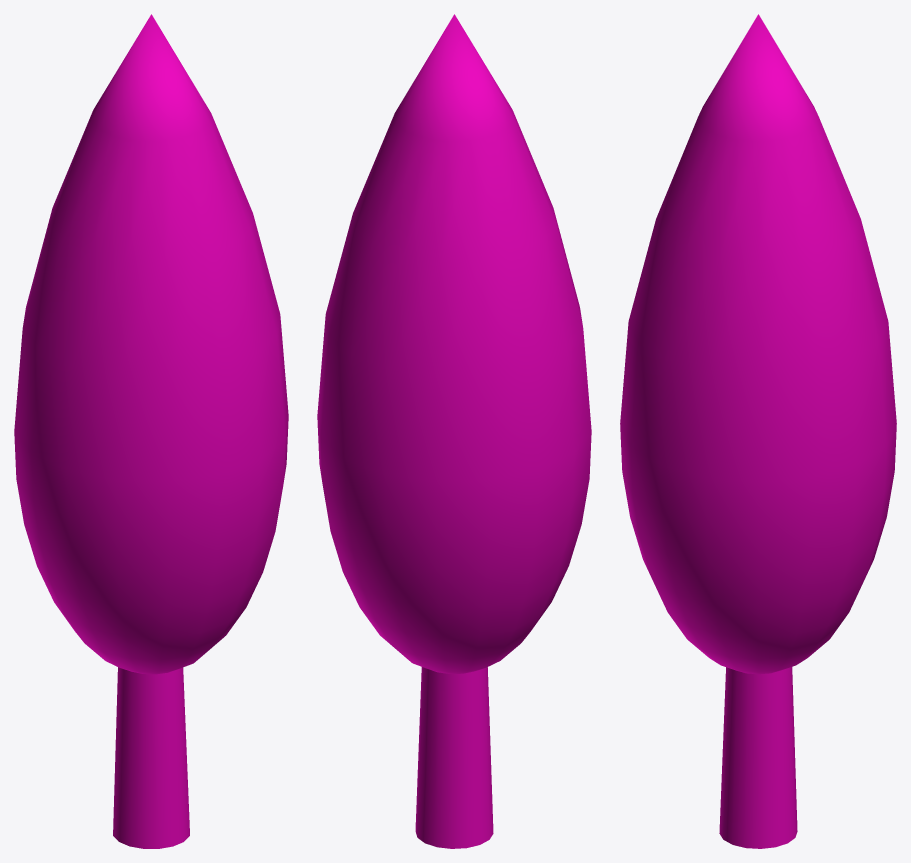
Rendered from pino.fbx.
3 views of the same model, side by side, from view 1: azimuth 30°, elevation 25°; view 2: azimuth 150°, elevation 25°; view 3: azimuth 270°, elevation 25° (orthographic).
Parts seen in each view (by area): view 1: sm_arbol_pino.001, sm_arbol_pino; view 2: sm_arbol_pino.001, sm_arbol_pino; view 3: sm_arbol_pino.001, sm_arbol_pino.
Part boxes in pixels (x1,y1,x2,y2): sm_arbol_pino.001: (14, 14, 288, 674); sm_arbol_pino: (113, 667, 189, 848); sm_arbol_pino.001: (317, 14, 591, 673); sm_arbol_pino: (415, 667, 493, 848); sm_arbol_pino.001: (620, 14, 896, 674); sm_arbol_pino: (719, 667, 797, 848).
Size of the model in its own units: 230 by 751 by 230.
